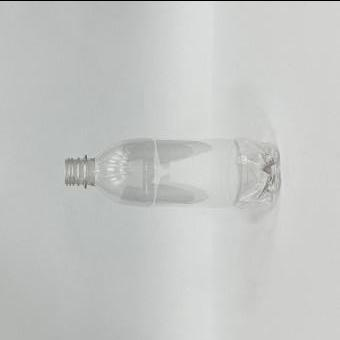bottle: (64, 136, 281, 207)
